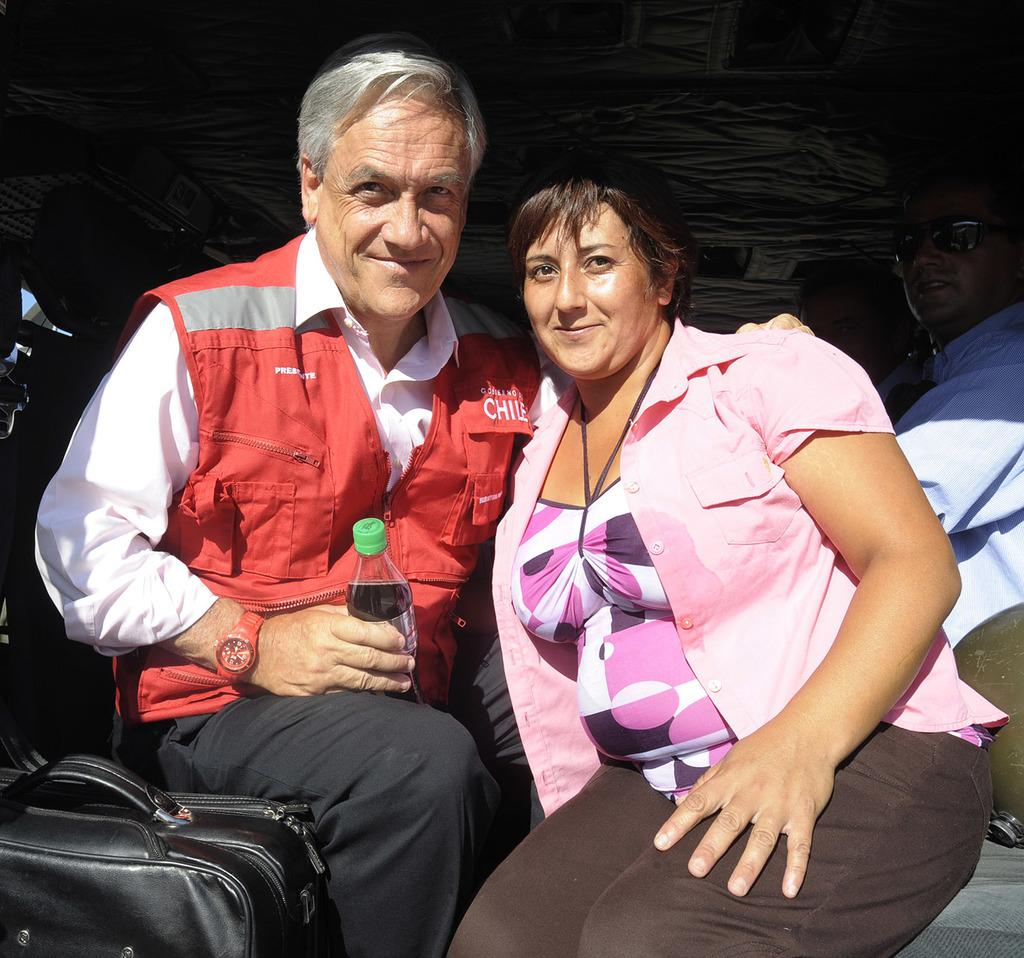Luggage-and-bags: (12, 741, 327, 958)
